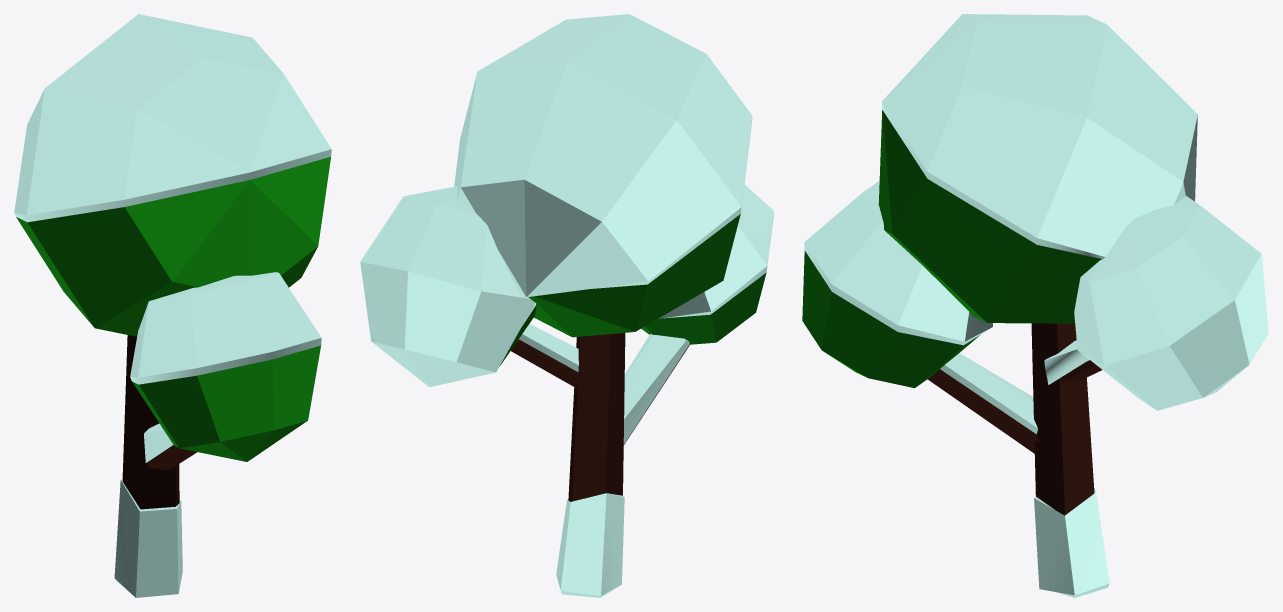
The model's file is Tree5.FBX.
The picture shows the model from 3 angles, left to right: view 1: azimuth 30°, elevation 25°; view 2: azimuth 150°, elevation 25°; view 3: azimuth 270°, elevation 25°; orthographic projection. The views are drawn at different scales.
Visible parts, largest first — view 1: Tree5_b, Tree5_c, Tree5_a; view 2: Tree5_b, Tree5_c, Tree5_a; view 3: Tree5_b, Tree5_c, Tree5_a.
Boxes of the visible parts, box(x1,y1,x2,y2) form: Tree5_b: box(14, 14, 331, 597); Tree5_c: box(16, 157, 330, 461); Tree5_a: box(122, 335, 197, 509); Tree5_b: box(360, 14, 773, 597); Tree5_c: box(499, 214, 766, 366); Tree5_a: box(511, 333, 690, 501); Tree5_b: box(804, 14, 1268, 597); Tree5_c: box(802, 110, 1101, 388); Tree5_a: box(927, 323, 1101, 515).
Bounding box in the file's own units: 13670 × 22460 × 16793.
